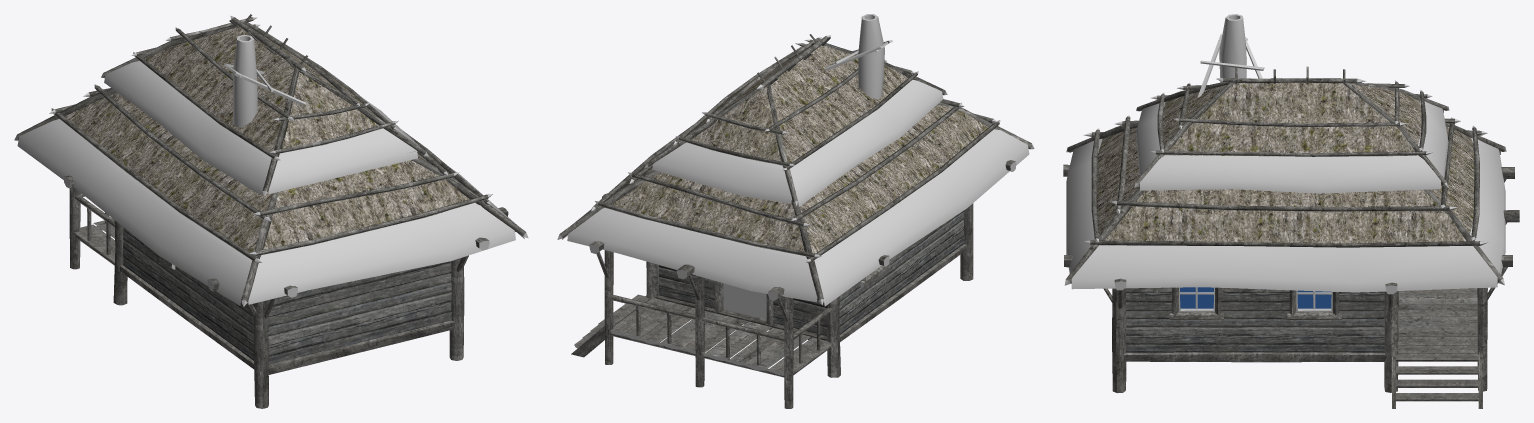
File: mw_type_3_cottage_02.FBX
3 views of the same model, side by side, from view 1: azimuth 30°, elevation 25°; view 2: azimuth 150°, elevation 25°; view 3: azimuth 270°, elevation 25° (orthographic). The views are drawn at different scales.
Visible parts, largest first — view 1: mw_type_3_cottage_02_roof, mw_type_3_cottage_02_wood, mw_type_3_cottage_02; view 2: mw_type_3_cottage_02_roof, mw_type_3_cottage_02_wood, mw_type_3_cottage_02; view 3: mw_type_3_cottage_02_roof, mw_type_3_cottage_02_wood, mw_type_3_cottage_02.
Part boxes in pixels (x1,y1,x2,y2): mw_type_3_cottage_02_roof: [17, 27, 524, 305]; mw_type_3_cottage_02_wood: [14, 14, 528, 408]; mw_type_3_cottage_02: [233, 34, 257, 127]; mw_type_3_cottage_02_roof: [562, 45, 1029, 306]; mw_type_3_cottage_02_wood: [557, 34, 1034, 408]; mw_type_3_cottage_02: [723, 14, 884, 319]; mw_type_3_cottage_02_roof: [1066, 82, 1505, 292]; mw_type_3_cottage_02_wood: [1063, 34, 1519, 408]; mw_type_3_cottage_02: [1179, 14, 1332, 311].
Bounding box in the file's own units: 1004 × 998 × 1368.
